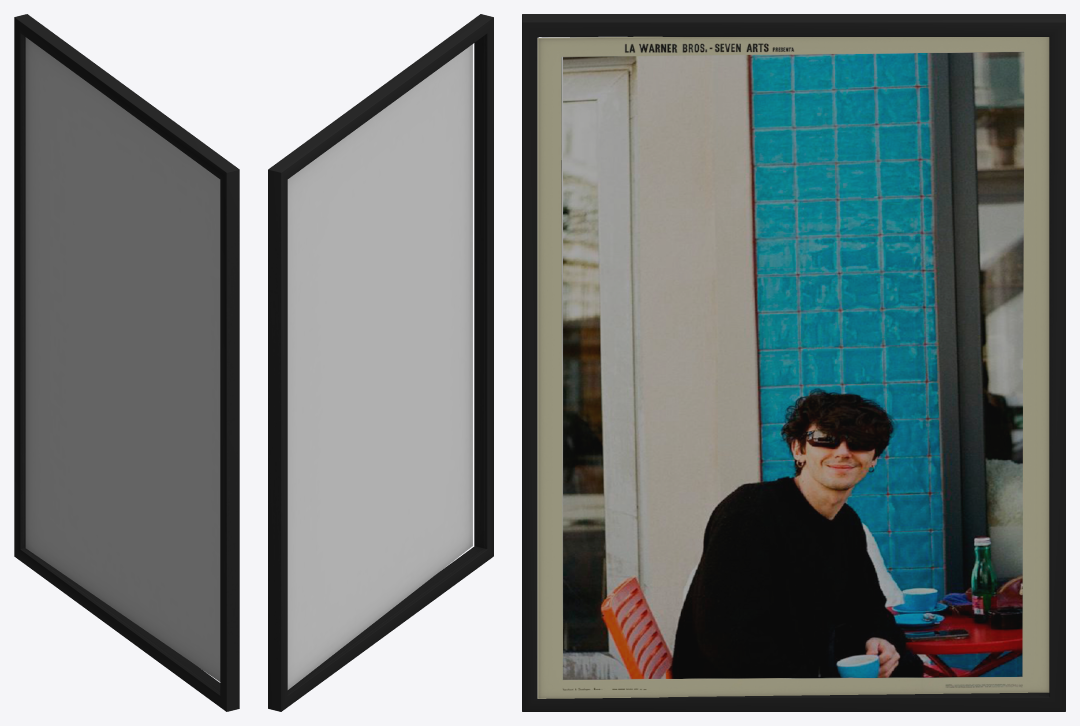
The model's file is avatar.obj.
3 renders of one model, left to right at view 1: azimuth 30°, elevation 25°; view 2: azimuth 150°, elevation 25°; view 3: azimuth 270°, elevation 25°, orthographic. The views are drawn at different scales.
Visible parts, largest first — view 1: Assembly_Tom_Pigeon_Multi_Gold_Foil_50x70cm_PRINT_0, Assembly_Tom_Pigeon_Multi_Gold_Foil_50x70cm_FRAME_0; view 2: Assembly_Tom_Pigeon_Multi_Gold_Foil_50x70cm_PRINT_0, Assembly_Tom_Pigeon_Multi_Gold_Foil_50x70cm_FRAME_0; view 3: Assembly_Tom_Pigeon_Multi_Gold_Foil_50x70cm_PRINT_0, Assembly_Tom_Pigeon_Multi_Gold_Foil_50x70cm_FRAME_0.
Boxes of the visible parts, left/top/right/bottom form: Assembly_Tom_Pigeon_Multi_Gold_Foil_50x70cm_PRINT_0: left=25, top=37, right=220, bottom=681; Assembly_Tom_Pigeon_Multi_Gold_Foil_50x70cm_FRAME_0: left=14, top=14, right=239, bottom=711; Assembly_Tom_Pigeon_Multi_Gold_Foil_50x70cm_PRINT_0: left=287, top=44, right=472, bottom=689; Assembly_Tom_Pigeon_Multi_Gold_Foil_50x70cm_FRAME_0: left=268, top=14, right=493, bottom=711; Assembly_Tom_Pigeon_Multi_Gold_Foil_50x70cm_PRINT_0: left=537, top=36, right=1049, bottom=698; Assembly_Tom_Pigeon_Multi_Gold_Foil_50x70cm_FRAME_0: left=522, top=14, right=1065, bottom=711.
Bounding box in the file's own units: 0.1101 × 3.64 × 2.6.
Materials: 2 (2 with a texture image).
